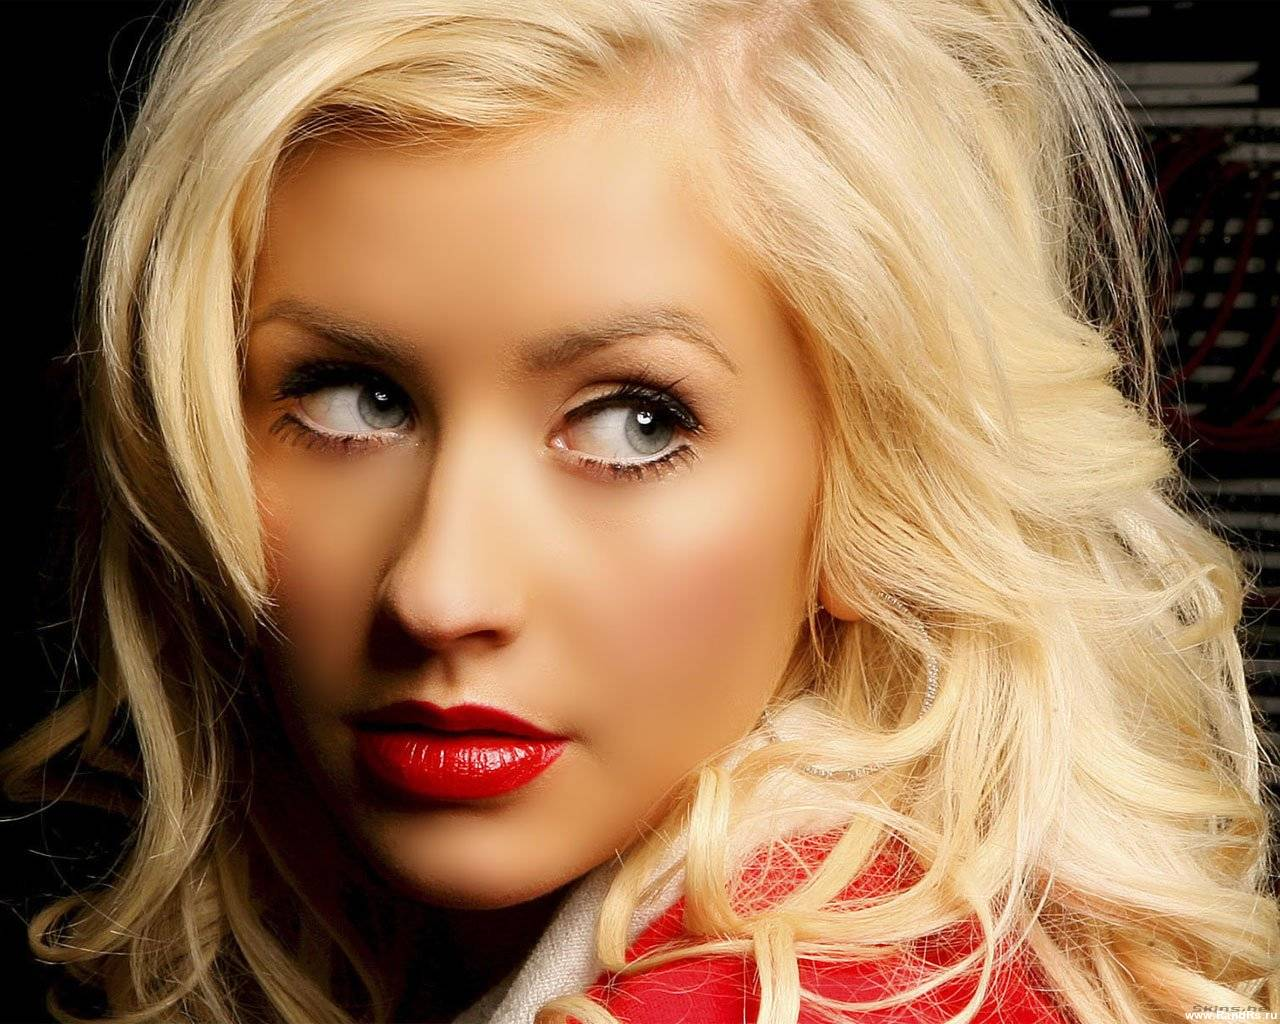without_mask: (249, 120, 753, 845)
